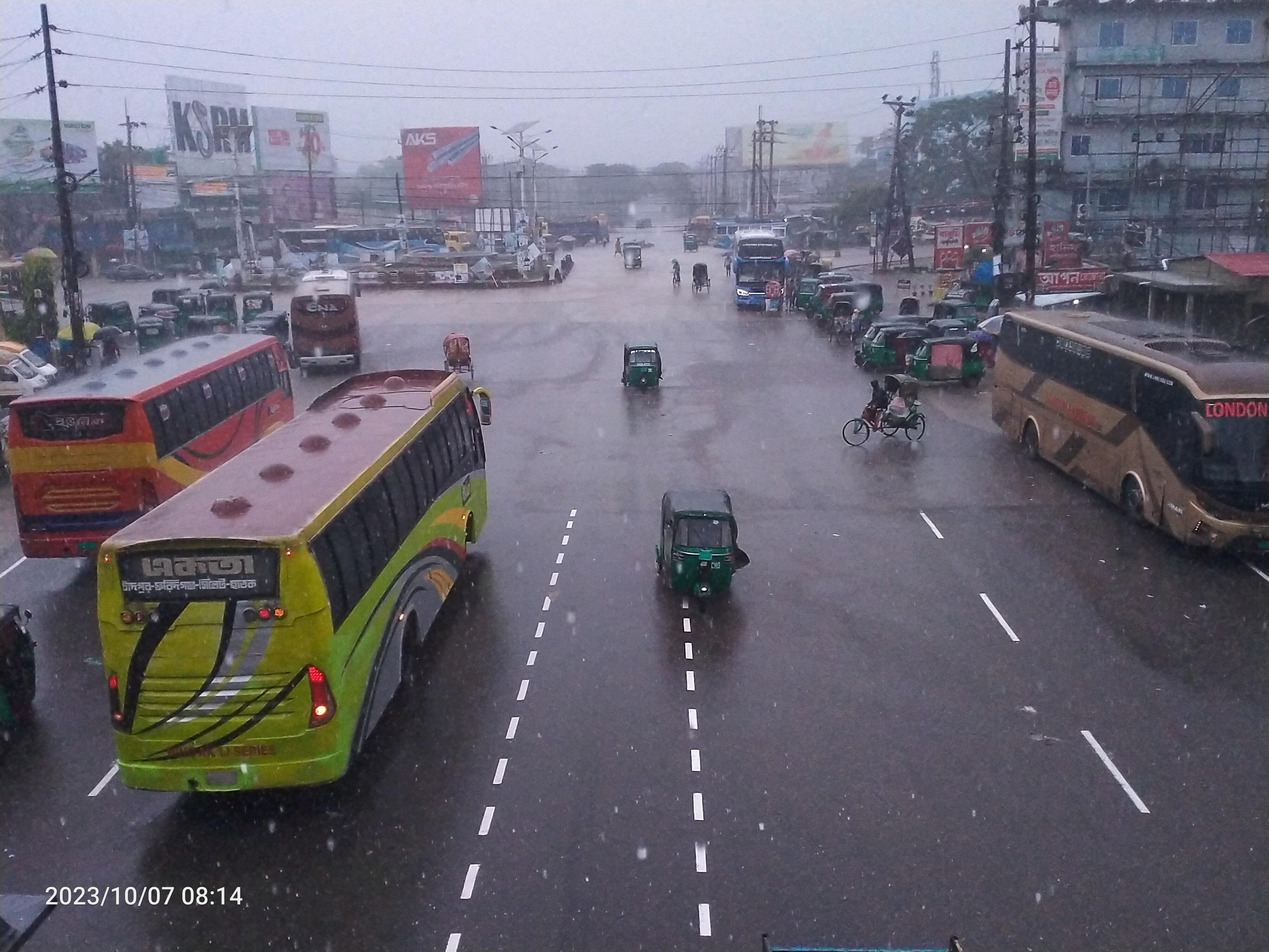Bus: (92, 366, 514, 835), (979, 284, 1269, 585), (6, 323, 305, 548), (264, 239, 385, 378), (258, 214, 435, 284), (719, 211, 802, 323)
Car: (825, 359, 956, 464), (434, 327, 490, 390), (683, 260, 731, 308)
Truck: (532, 201, 612, 251)
